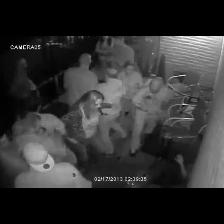person: (15, 143, 91, 187), (62, 91, 104, 169), (13, 113, 76, 164), (97, 69, 126, 156), (131, 78, 163, 155), (60, 54, 97, 106), (9, 59, 39, 114), (118, 63, 142, 117), (112, 36, 134, 66), (96, 36, 113, 67)
